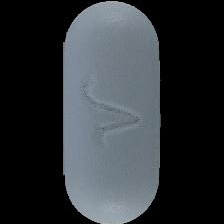33261-944: (0, 0, 224, 224)
